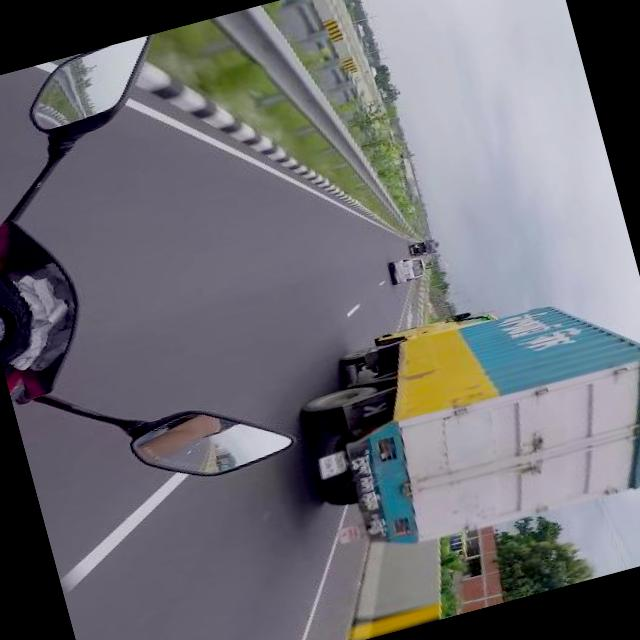car: (387, 254, 430, 287), (409, 207, 416, 213)
motorcycle: (0, 25, 304, 522)
truck: (284, 267, 640, 571), (406, 238, 444, 260)
